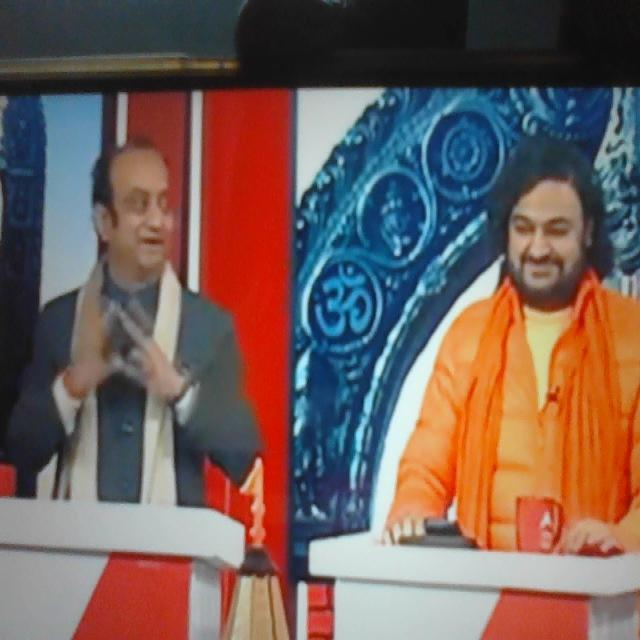fake: (97, 78, 209, 290)
